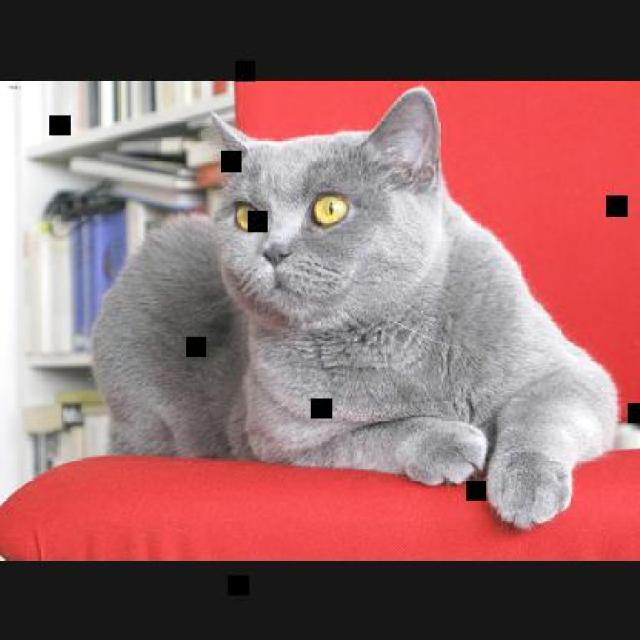unauthorized: (87, 84, 638, 530)
